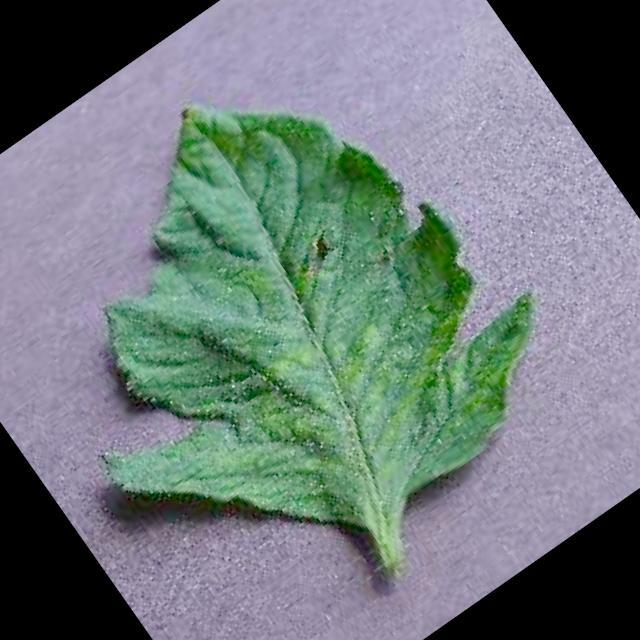Tomato mosaic virus leaf: (0, 0, 594, 636)
